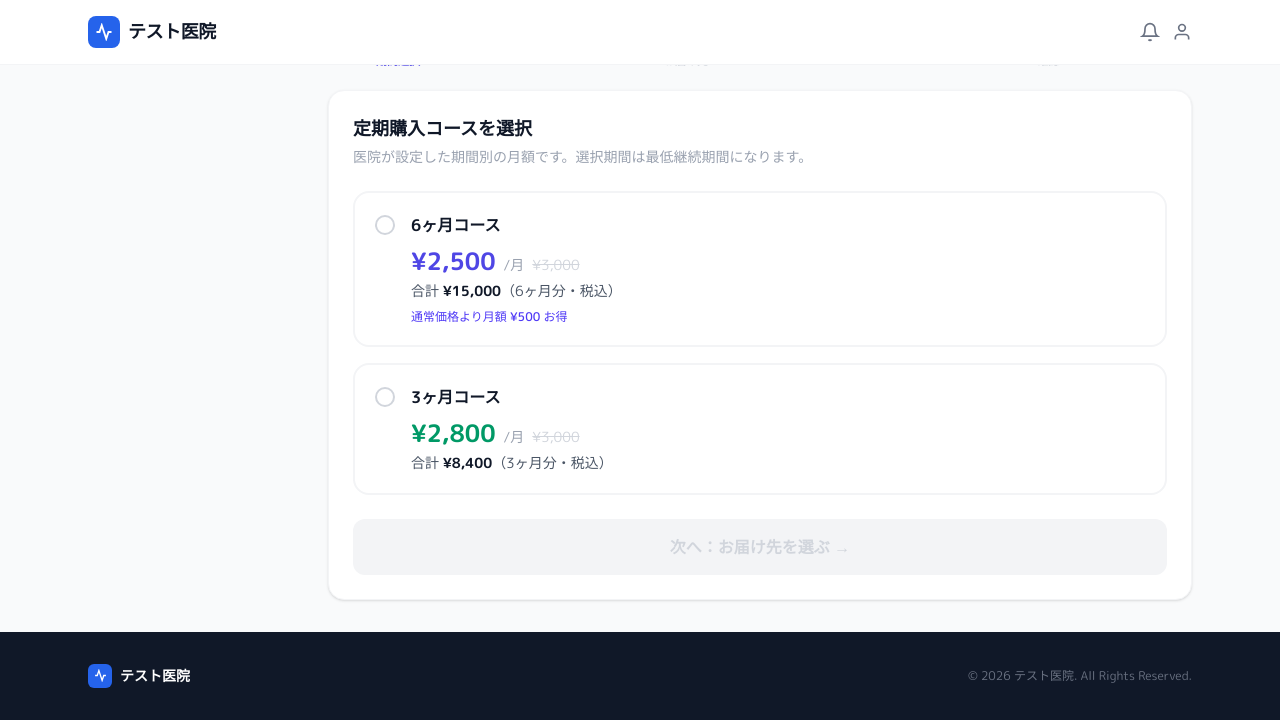
Test: SubscriptionOrderPage › Shopify契約や実受注を作らず申込審査へ送信する
(page scrolled)
Click the button "3ヶ月コース ¥2,800 /月 ¥3,000 合計 ¥8,400（3ヶ月分・税込）" at (456, 396), box [353, 362, 1167, 494]
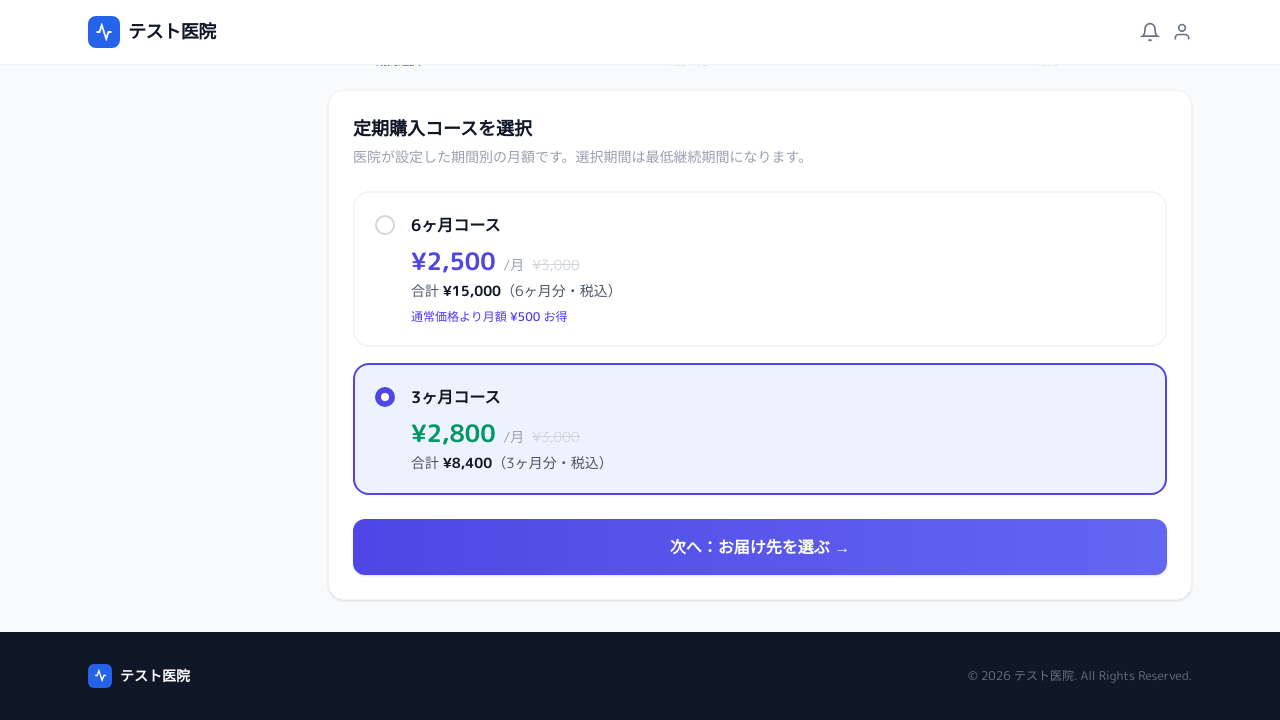
Click the button "次へ：お届け先を選ぶ →" at (760, 546), box [353, 518, 1167, 574]
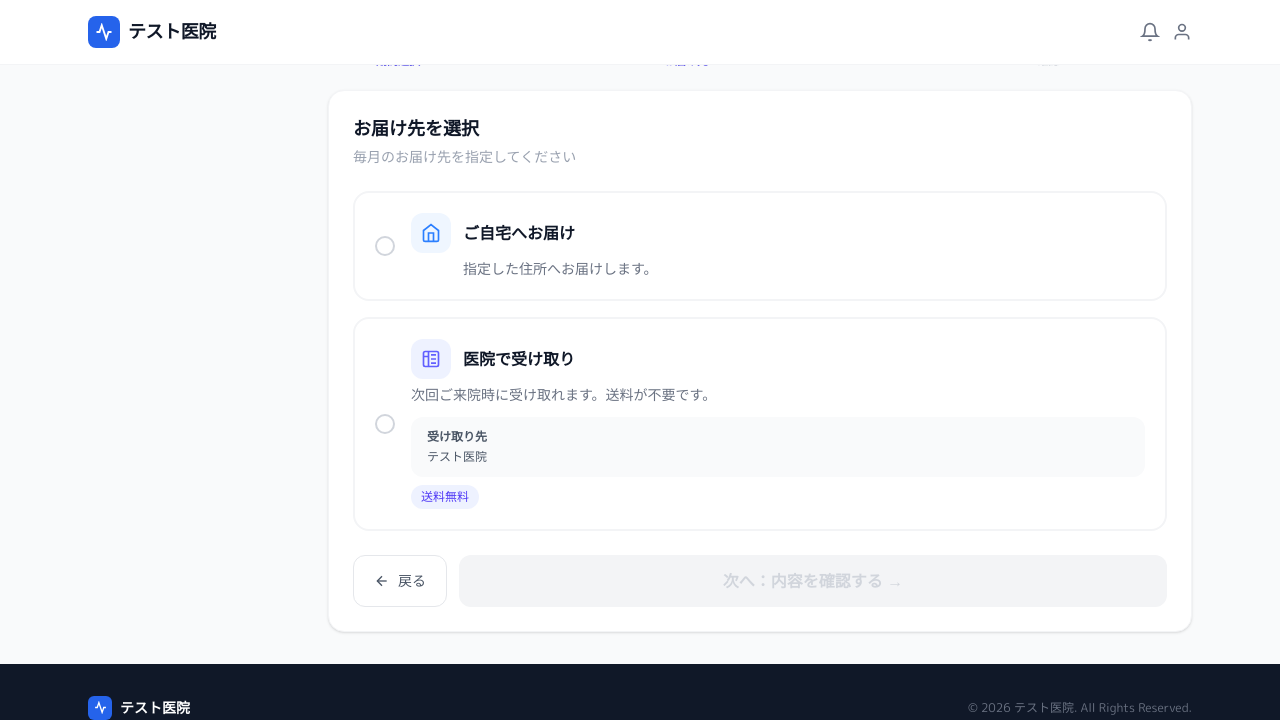
Click the button "医院で受け取り 次回ご来院時に受け取れます。送料が不要です。 受け取り先 テスト医院 送料無料" at (760, 424), box [353, 316, 1167, 530]
(page scrolled)
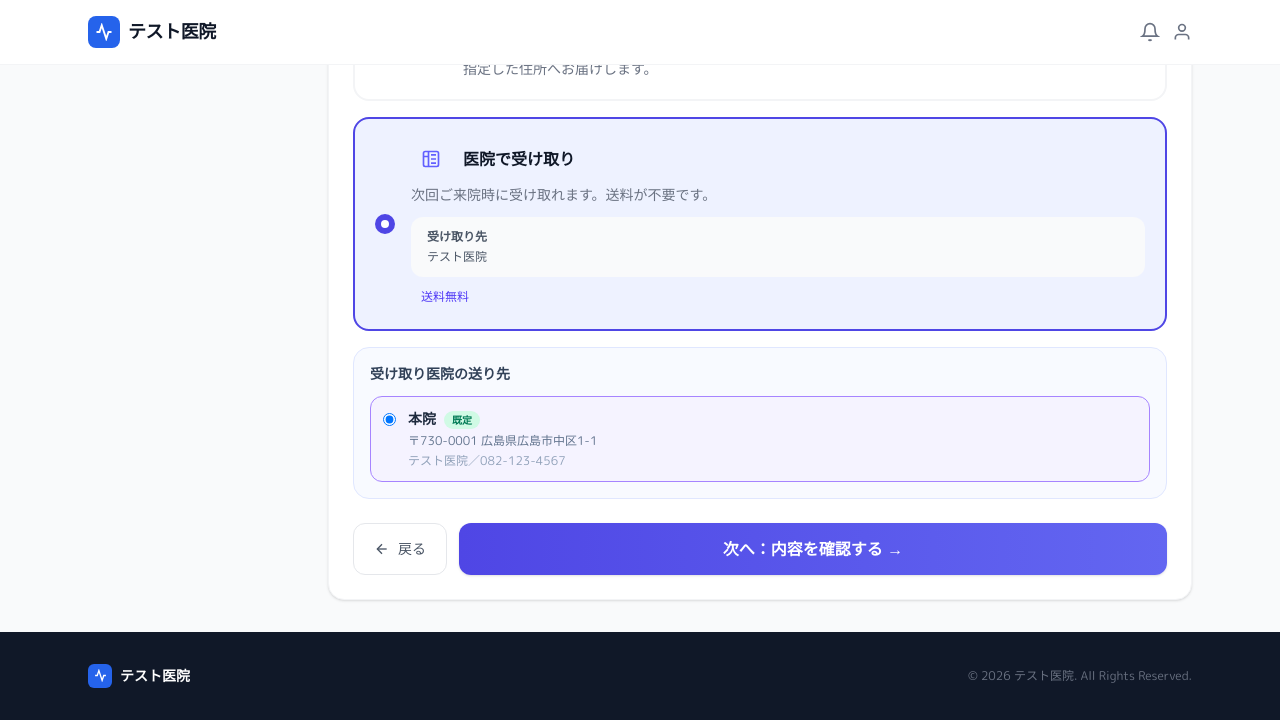
Now the button "次へ：内容を確認する →" is enabled
Click the button "次へ：内容を確認する →" at (813, 548), box [459, 522, 1167, 574]
(page scrolled)
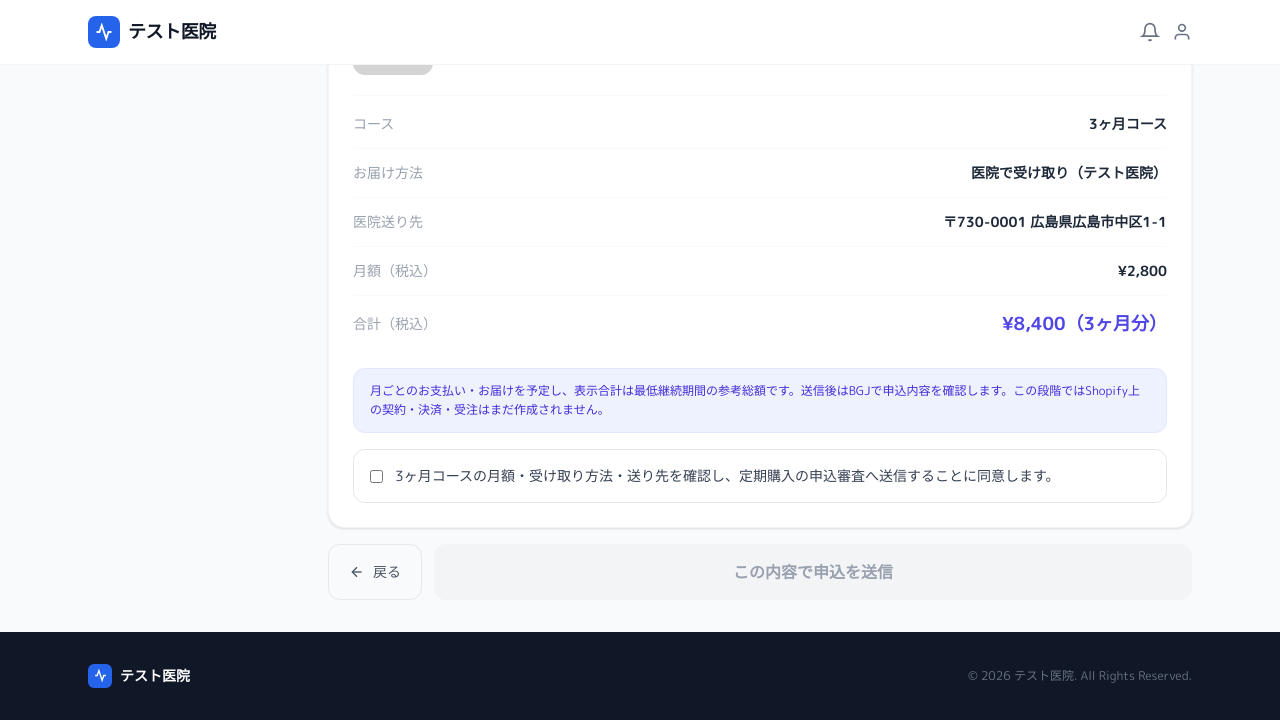
Now the text "Shopify上の契約・決済・受注はまだ作成されません" is shown, box [370, 382, 1140, 418]
Click the checkbox at (376, 476), box [370, 470, 383, 482]
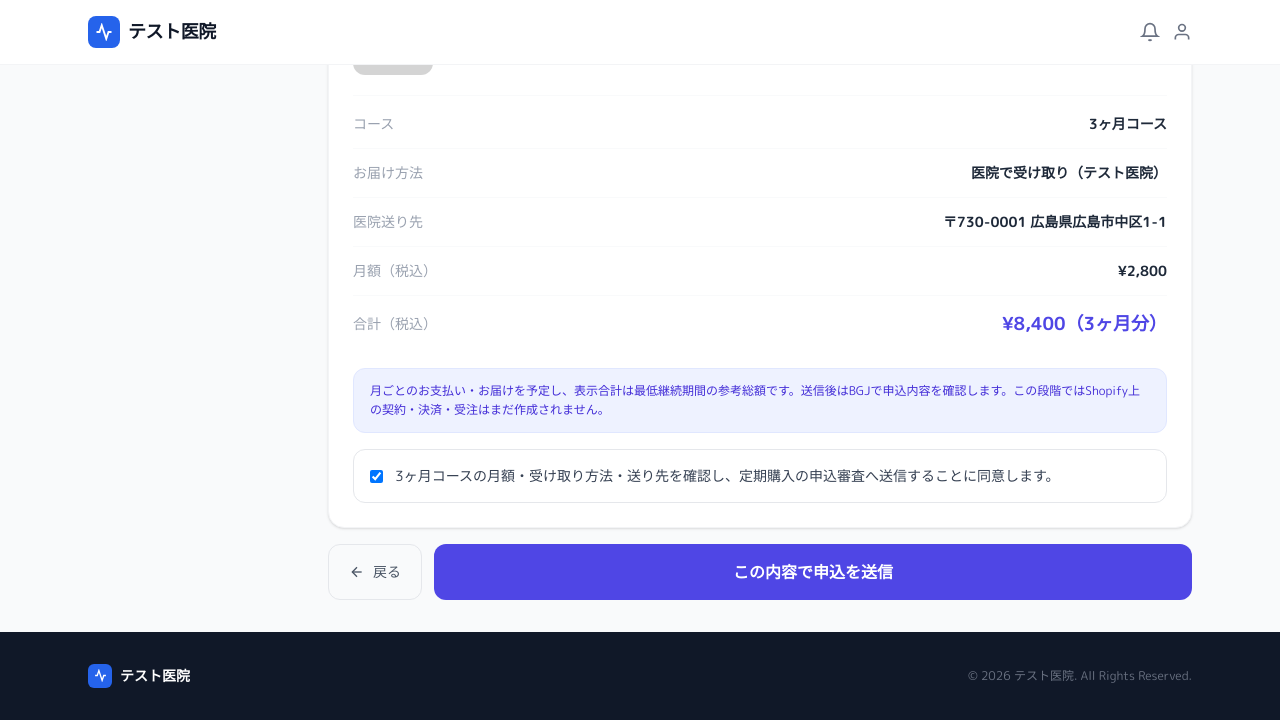
Click the button "この内容で申込を送信" at (813, 572), box [434, 544, 1192, 600]
(page scrolled)
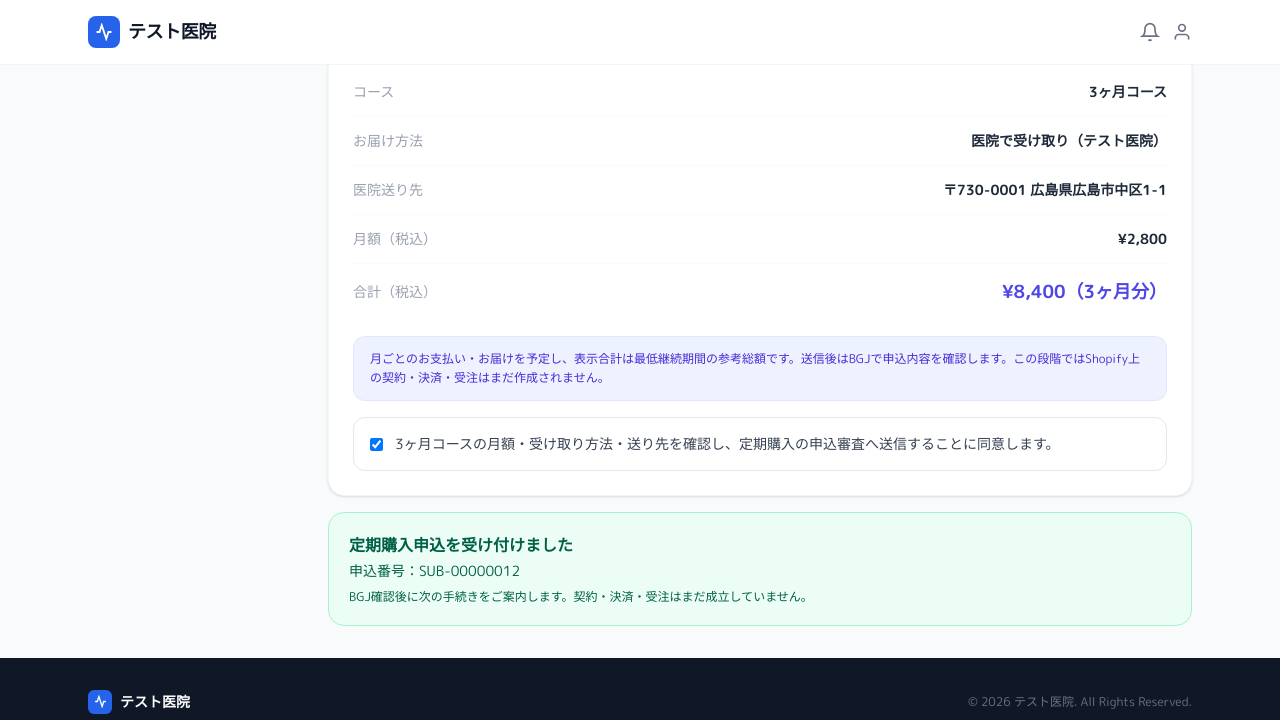
Now the text "定期購入申込を受け付けました" is shown, box [349, 534, 573, 556]
Now the text "申込番号：SUB-00000012" is shown, box [349, 560, 520, 580]
